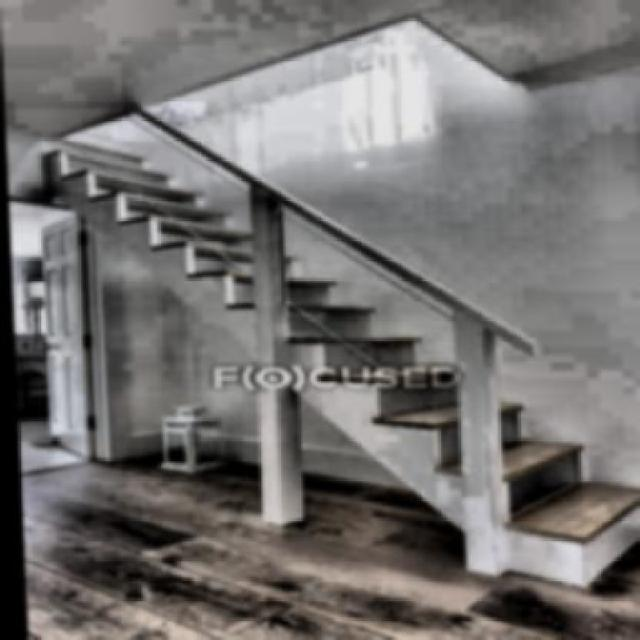stair: (103, 157, 639, 505)
